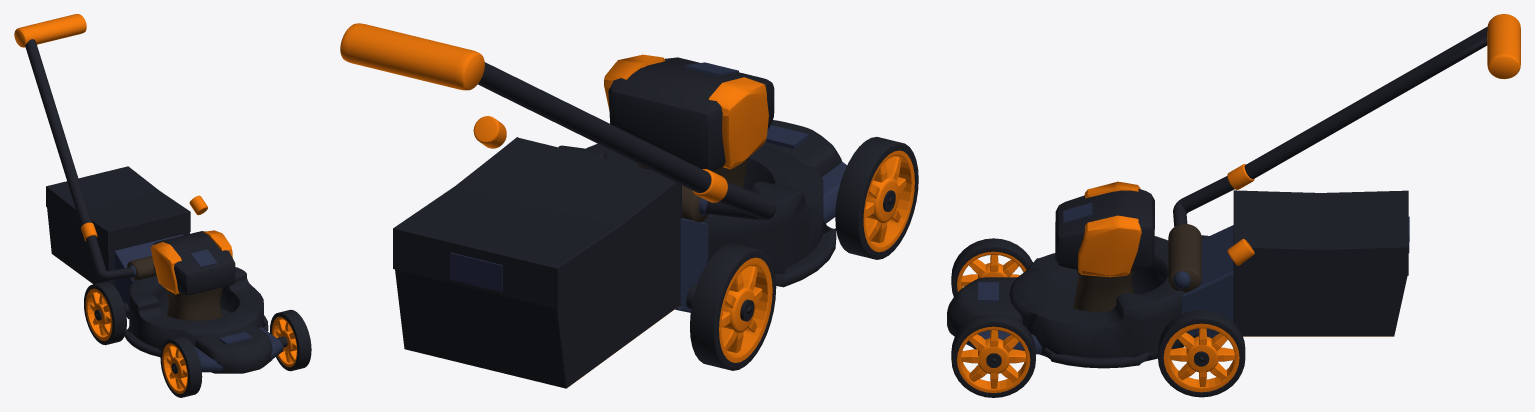
The model's file is lawnmower.glb.
3 views of the same model, side by side, from view 1: azimuth 30°, elevation 25°; view 2: azimuth 150°, elevation 25°; view 3: azimuth 270°, elevation 25° (orthographic). The views are drawn at different scales.
Parts seen in each view (by area): view 1: Cube, Cylinder, Cylinder.010, Cube.006, Cube.001, Cube.005, Cylinder.015, Cylinder.004, Cylinder.003, Cylinder.001, Cube.004, Cube.015 (+7 smaller); view 2: Cube, Cylinder, Cube.006, Cylinder.010, Cylinder.015, Cylinder.004, Cylinder.003, Cube.009, Cube.015, Cube.008, Cube.004, Cube.001 (+8 smaller); view 3: Cube, Cylinder, Cylinder.010, Cube.006, Cube.007, Cube.013, Cube.014, Cube.004, Cylinder.002, Cube.001, Cylinder.001, Cylinder.015 (+4 smaller).
Part boxes in pixels (x1,y1,x2,y2): Cube: (46,166,190,285); Cylinder: (124,267,268,357); Cylinder.010: (25,39,133,280); Cube.006: (153,231,235,295); Cube.001: (195,325,272,373); Cube.005: (166,287,223,320); Cylinder.015: (14,14,86,47); Cylinder.004: (84,281,126,345); Cylinder.003: (160,336,202,397); Cylinder.001: (270,309,311,371); Cube.004: (114,234,183,318); Cube.015: (151,242,181,294); Cube: (393,137,681,388); Cylinder: (558,143,836,287); Cube.006: (608,57,774,171); Cylinder.010: (478,62,775,220); Cylinder.015: (340,23,484,90); Cylinder.004: (690,243,776,370); Cylinder.003: (835,137,918,259); Cube.009: (719,257,772,362); Cube.015: (708,77,768,169); Cube.008: (863,150,914,252); Cube.004: (675,218,708,312); Cube.001: (763,120,841,176); Cube: (1233,190,1408,336); Cylinder: (1009,236,1184,368); Cylinder.010: (1173,26,1487,226); Cube.006: (1055,189,1154,270); Cube.007: (1163,323,1239,392); Cube.013: (1078,215,1141,277); Cube.014: (957,326,1030,392); Cube.004: (1182,225,1233,338); Cylinder.002: (1158,310,1245,397); Cube.001: (947,277,1022,345); Cylinder.001: (951,313,1035,397); Cylinder.015: (1487,14,1520,79).
Bounding box in the file's own units: 0.8722 × 1.41 × 2.29.
